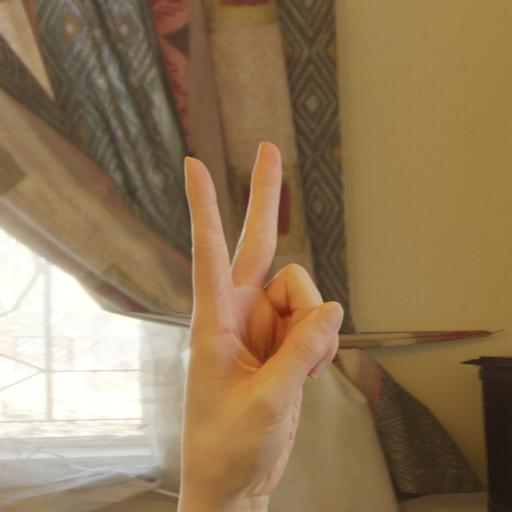V: (174, 138, 346, 512)
